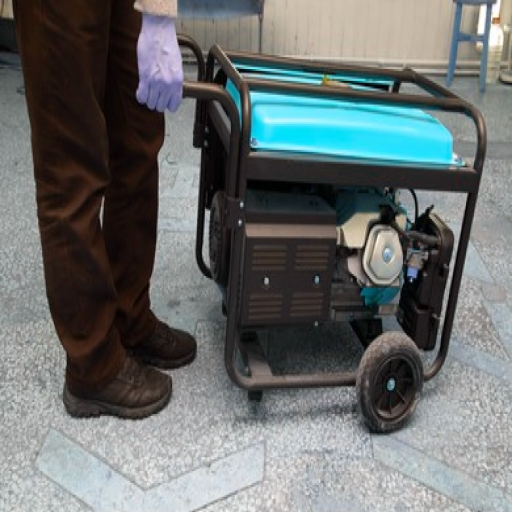portable_generator: (198, 44, 474, 390)
